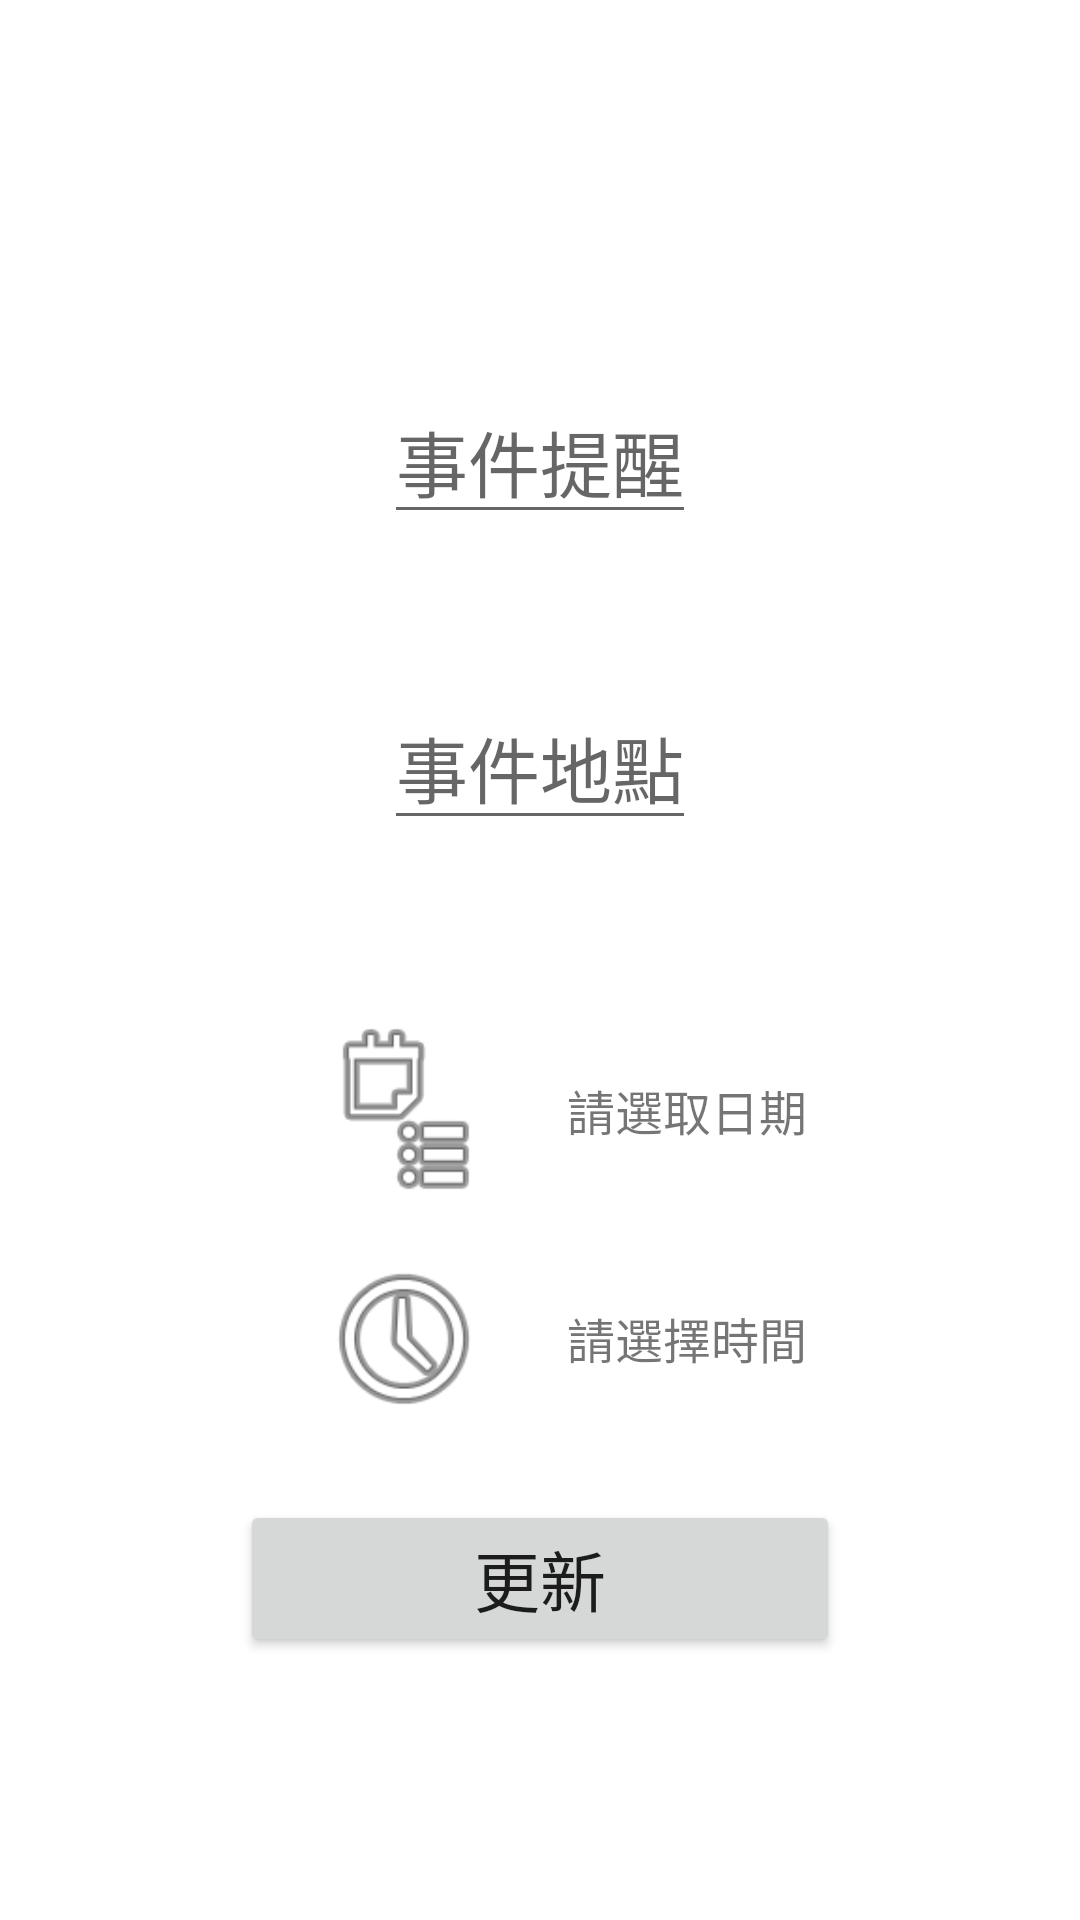

Screen size 1080x1920. Icon name, then its box in pixels as (x1, y1, x2, y2):
Calender: (343, 1029, 469, 1189)
Time: (339, 1274, 469, 1404)
